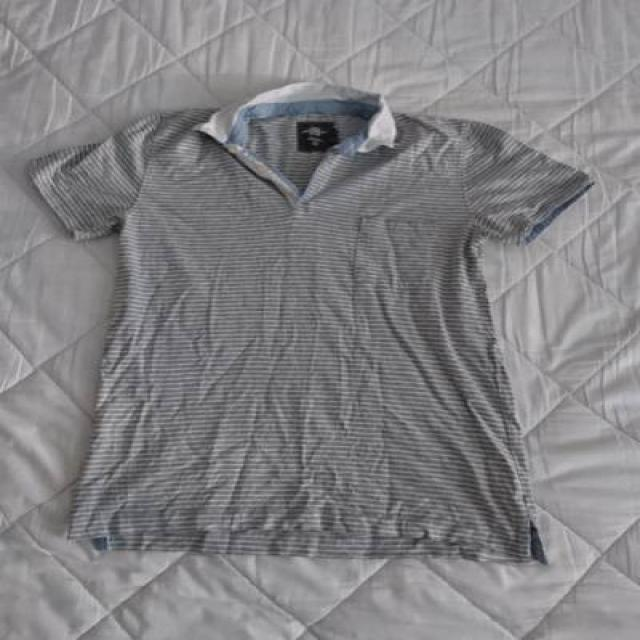Clothes -Biodegradable-: (28, 85, 577, 571)
